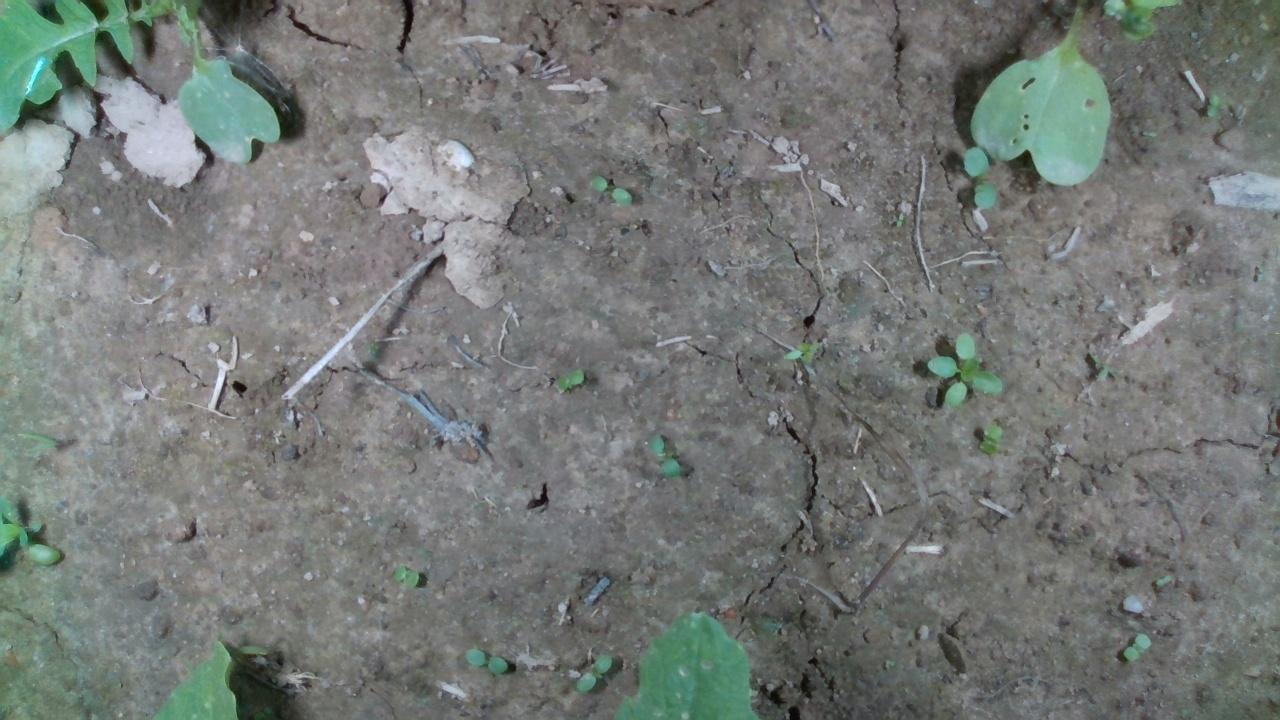weed: (458, 646, 512, 676)
